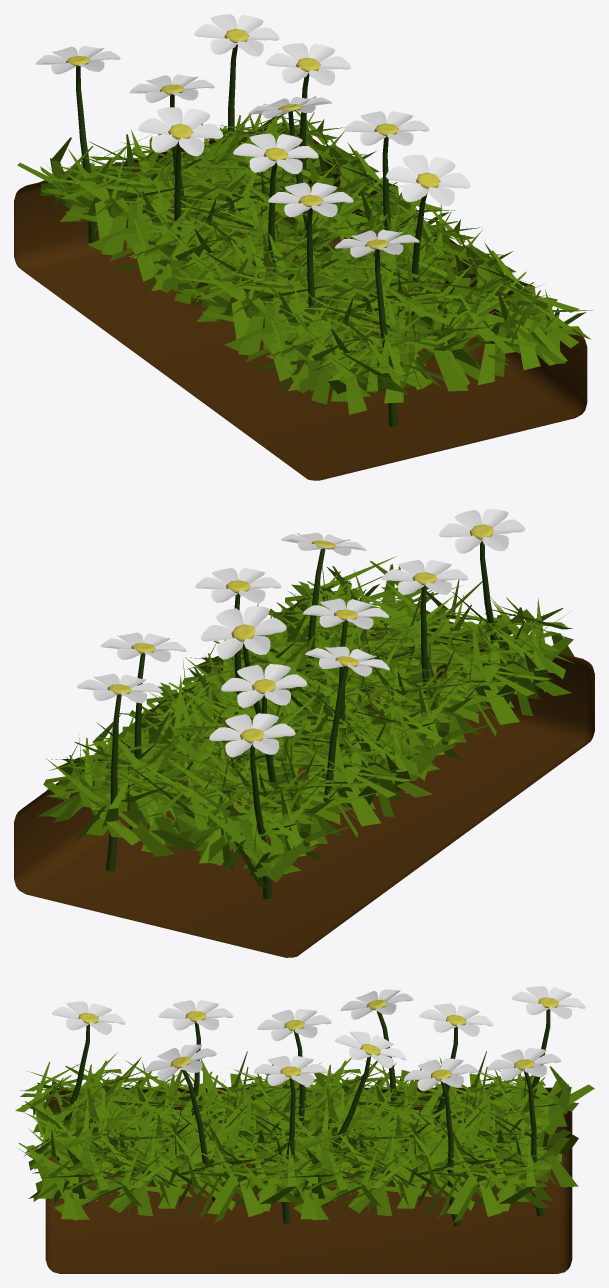
File: flowers.fbx
The picture shows the model from 3 angles, top to bottom: view 1: azimuth 30°, elevation 25°; view 2: azimuth 150°, elevation 25°; view 3: azimuth 270°, elevation 25°; orthographic projection. The views are drawn at different scales.
Parts seen in each view (by area): view 1: Circle.010; view 2: Circle.010; view 3: Circle.010.
Boxes of the visible parts, x1,y1,x2,y2 form: Circle.010: [14, 14, 592, 480]; Circle.010: [14, 509, 594, 957]; Circle.010: [15, 986, 594, 1273].
Bounding box in the file's own units: 383 × 246 × 685.
